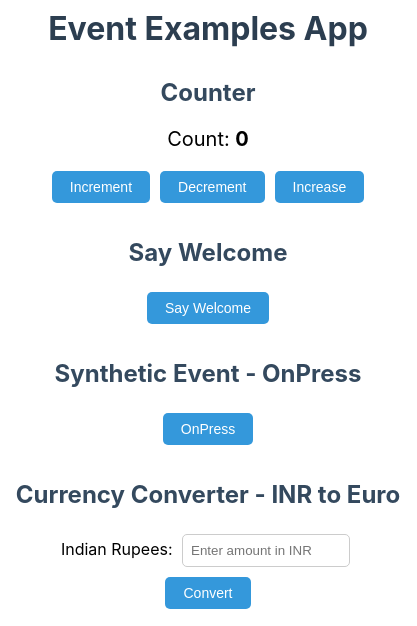
increment button increases counter
Click the button "Increment": [101, 187] box [52,171,150,203]
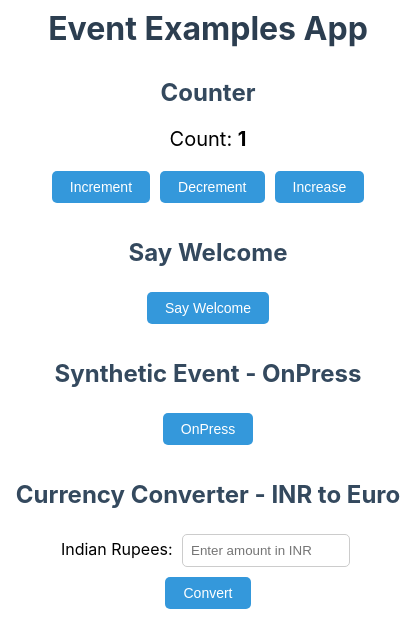
Check: the text "Count: 1" is shown, box [170,127,246,151]
